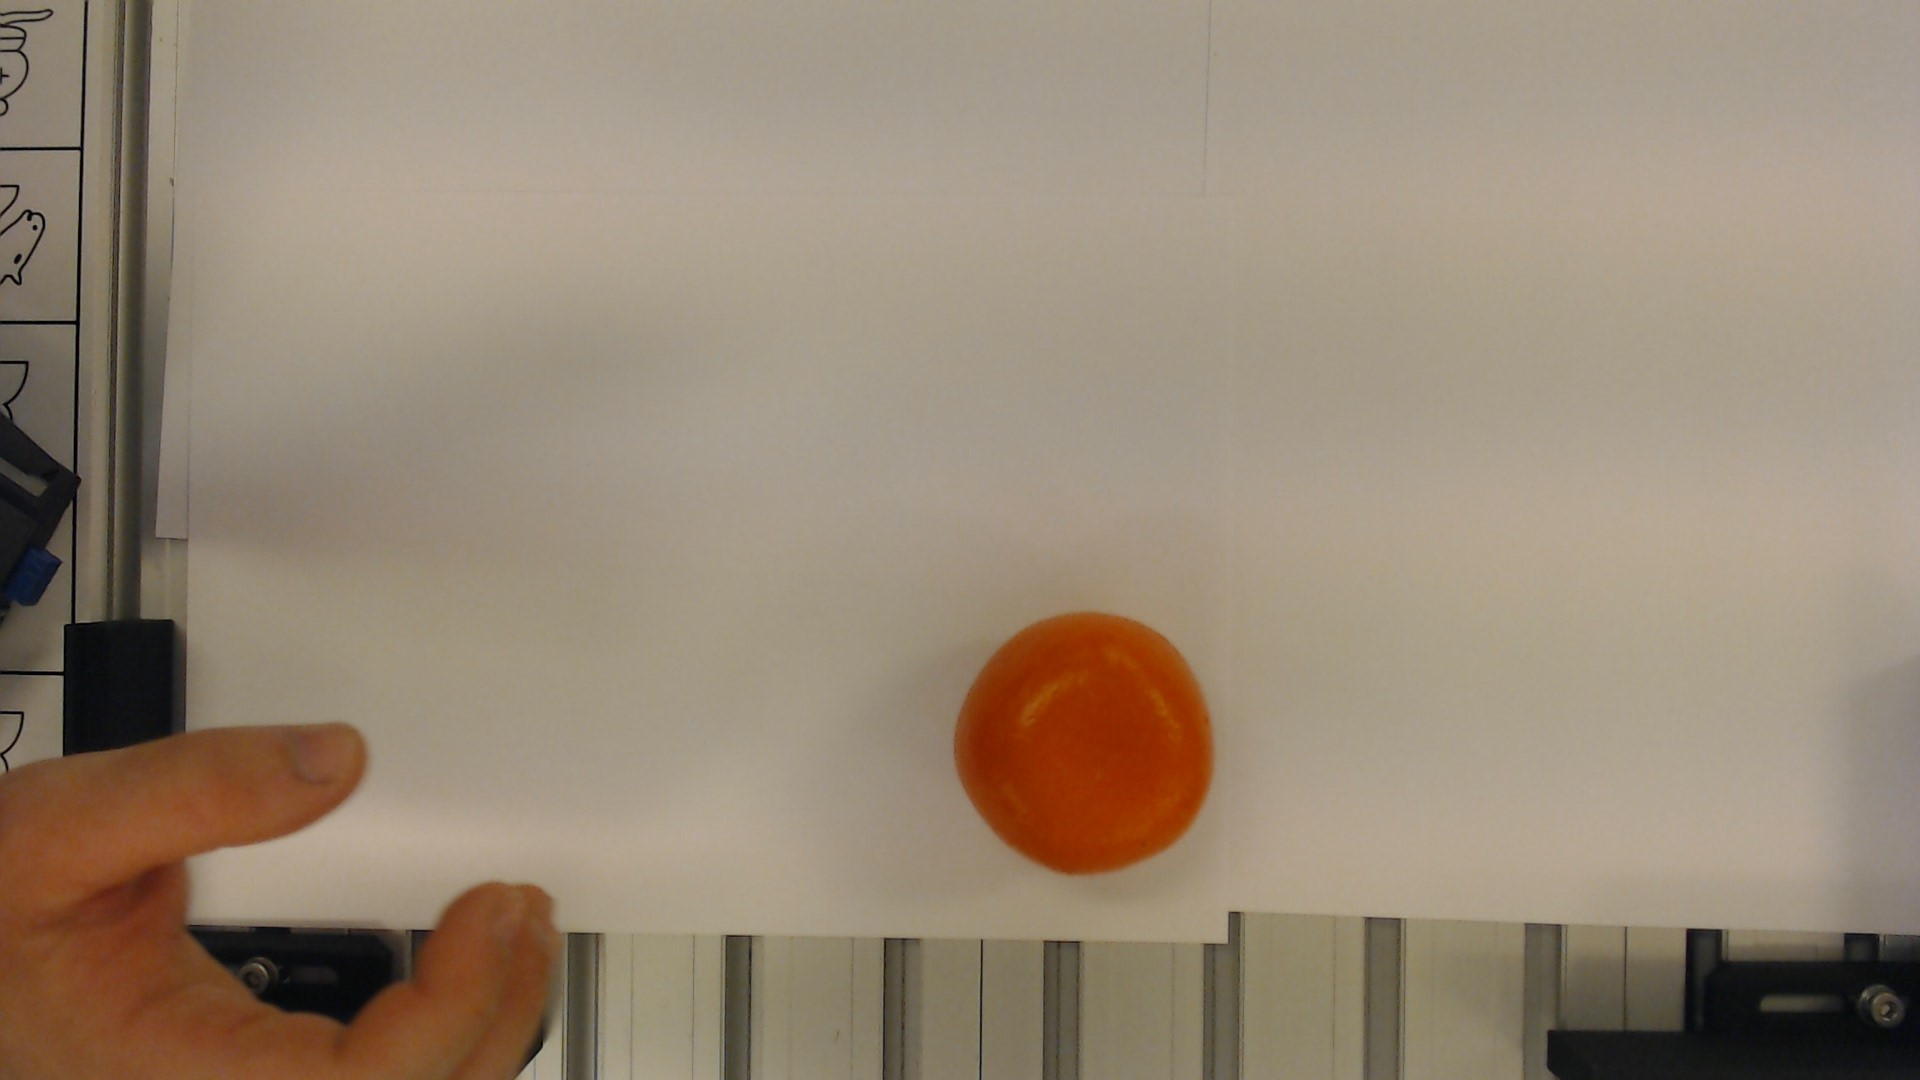Mandarin: (947, 613, 1225, 876)
